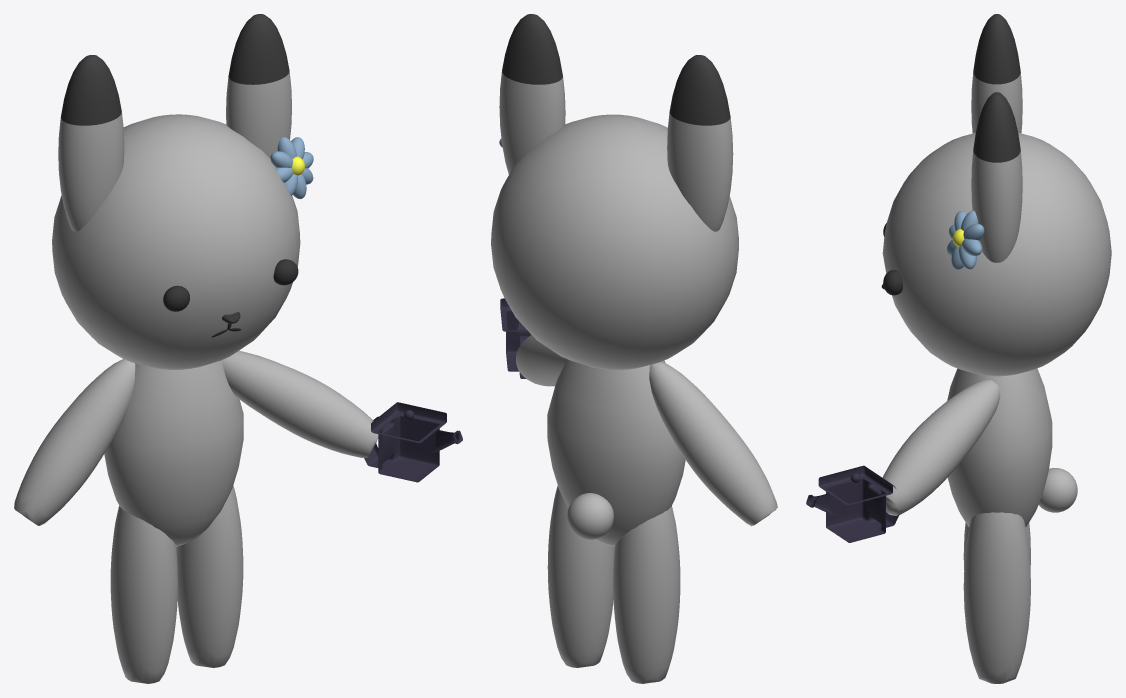
Rendered from bunny.glb.
3 renders of one model, left to right at view 1: azimuth 30°, elevation 25°; view 2: azimuth 150°, elevation 25°; view 3: azimuth 270°, elevation 25°, orthographic. The views are drawn at different scales.
Parts seen in each view (by area): view 1: Sphere.007, Sphere, Sphere.003, Sphere.001, Sphere.013, Sphere.004, Sphere.002, Sphere.010, Cube, Sphere.020; view 2: Sphere.007, Sphere, Sphere.003, Sphere.001, Sphere.013, Sphere.004, Sphere.010, Sphere.015, Sphere.002, Cube; view 3: Sphere.007, Sphere, Sphere.004, Sphere.002, Sphere.010, Cube, Sphere.013, Sphere.020, Sphere.015.
Part boxes in pixels (x1,y1,x2,y2): Sphere.007: (52, 114, 300, 369); Sphere: (104, 360, 243, 546); Sphere.003: (110, 506, 177, 683); Sphere.001: (14, 359, 135, 525); Sphere.013: (58, 55, 124, 231); Sphere.004: (176, 485, 243, 667); Sphere.002: (222, 350, 378, 457); Sphere.010: (226, 14, 291, 158); Cube: (364, 402, 462, 482); Sphere.020: (270, 137, 313, 199); Sphere.007: (491, 114, 738, 369); Sphere: (547, 359, 685, 546); Sphere.003: (613, 506, 680, 683); Sphere.001: (649, 361, 777, 526); Sphere.013: (667, 55, 733, 231); Sphere.004: (547, 485, 614, 667); Sphere.010: (499, 14, 565, 174); Sphere.015: (567, 493, 613, 539); Sphere.002: (515, 335, 566, 386); Cube: (500, 298, 531, 378); Sphere.007: (882, 133, 1111, 376); Sphere: (947, 368, 1052, 527); Sphere.004: (963, 512, 1030, 683); Sphere.002: (882, 380, 1000, 515); Sphere.010: (971, 92, 1022, 262); Cube: (806, 465, 899, 542); Sphere.013: (971, 14, 1022, 133); Sphere.020: (947, 210, 984, 269); Sphere.015: (1038, 468, 1077, 512).
Bounding box in the file's own units: 1.84 × 3.16 × 1.44.
